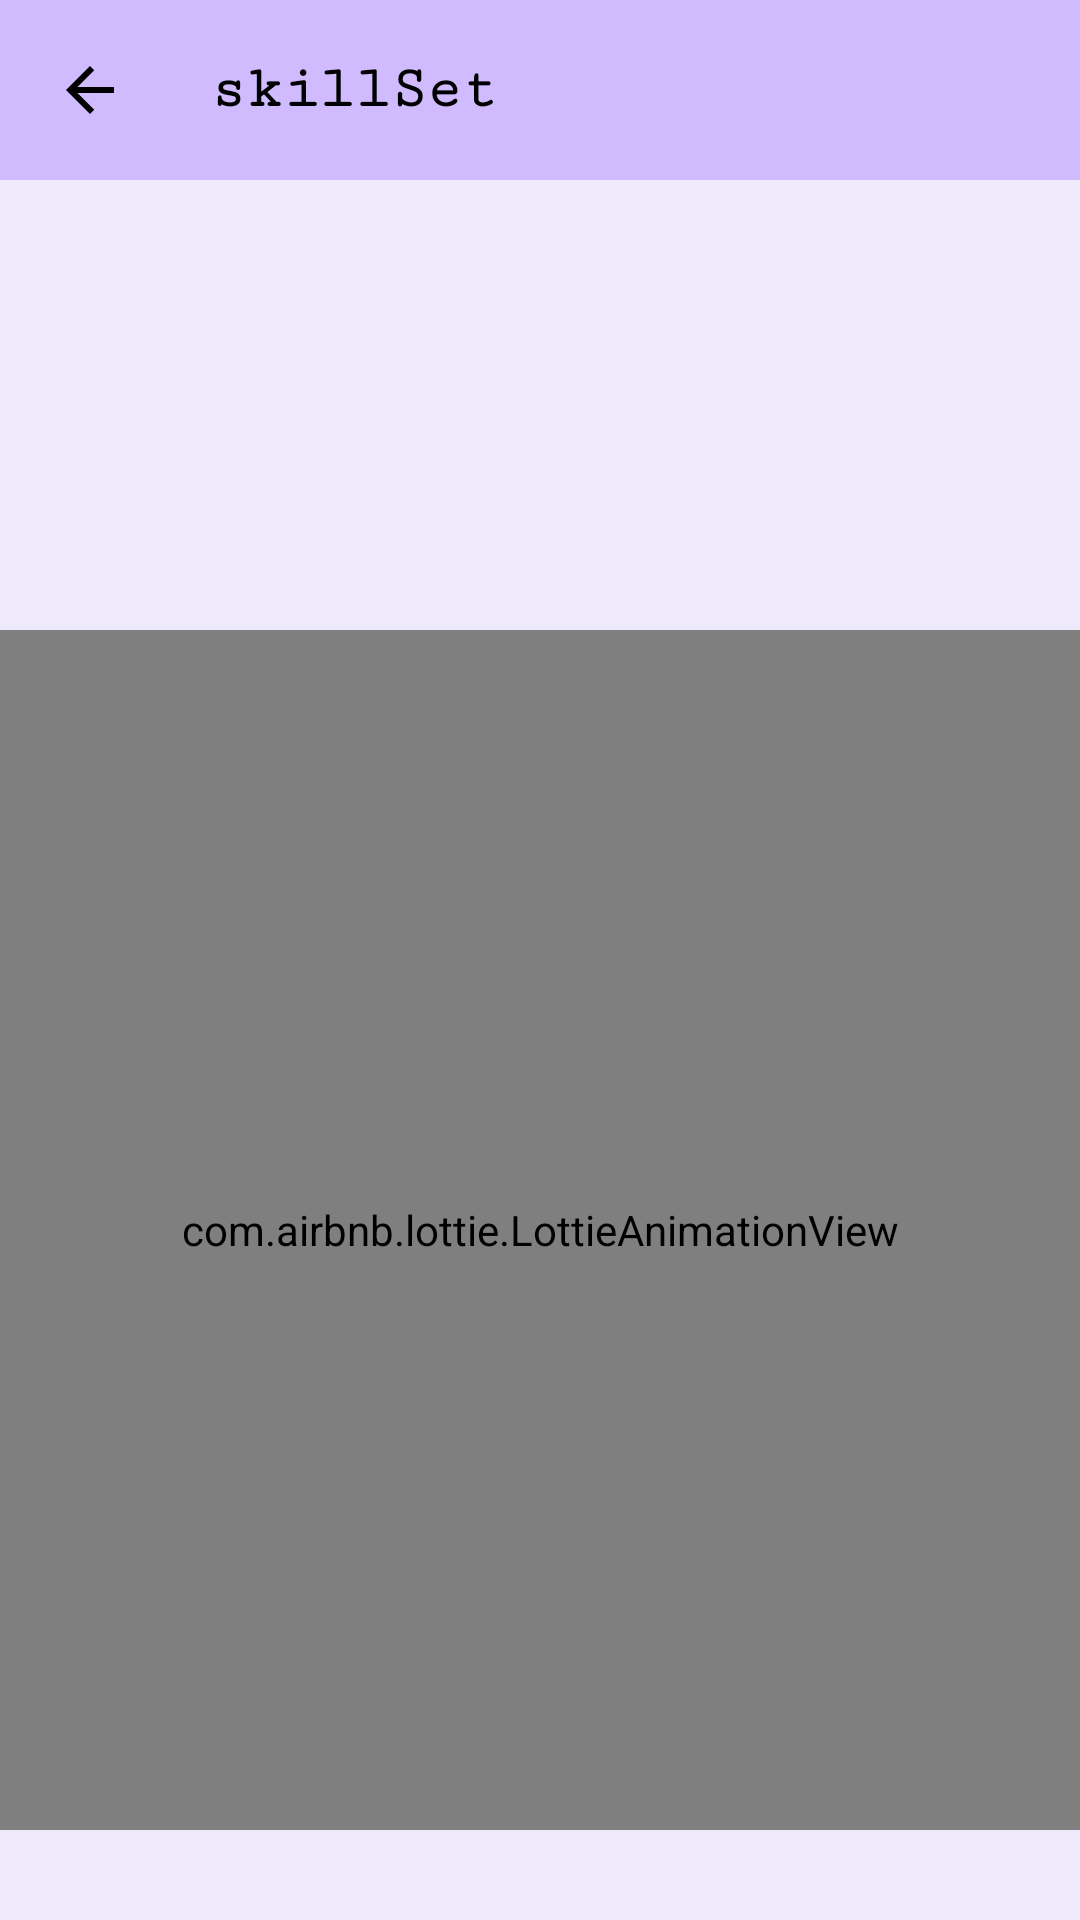

Named icons in this screenshot (1080 x 1920) and their centers, (x,y):
file back: (90,90)
